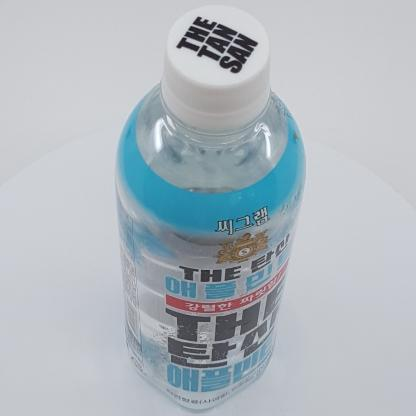------------450ML: (115, 4, 306, 412)
